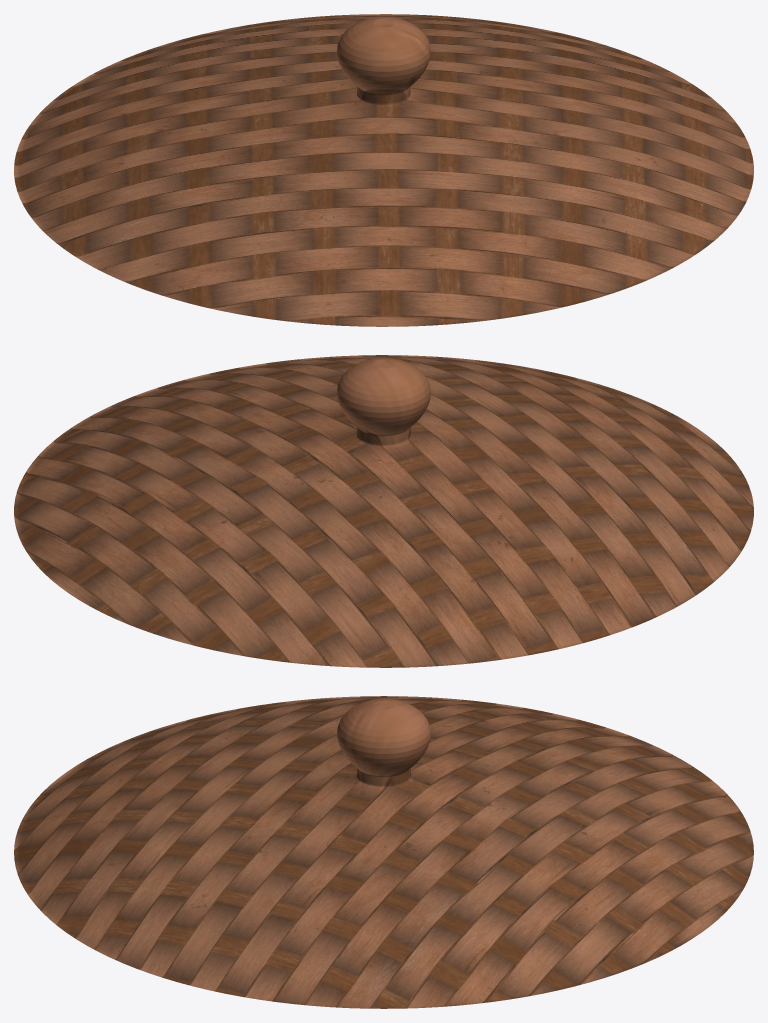
File: basket lid.fbx
The picture shows the model from 3 angles, top to bottom: view 1: azimuth 30°, elevation 25°; view 2: azimuth 150°, elevation 25°; view 3: azimuth 270°, elevation 25°; orthographic projection.
Parts seen in each view (by area): view 1: Lid.001; view 2: Lid.001; view 3: Lid.001.
Part boxes in pixels (x1=…): Lid.001: x1=14, y1=14, x2=753, y2=326; Lid.001: x1=14, y1=355, x2=753, y2=667; Lid.001: x1=14, y1=696, x2=753, y2=1008.
Size of the model in its own units: 65.08 by 14.31 by 65.08.
1 material, 1 textured.
